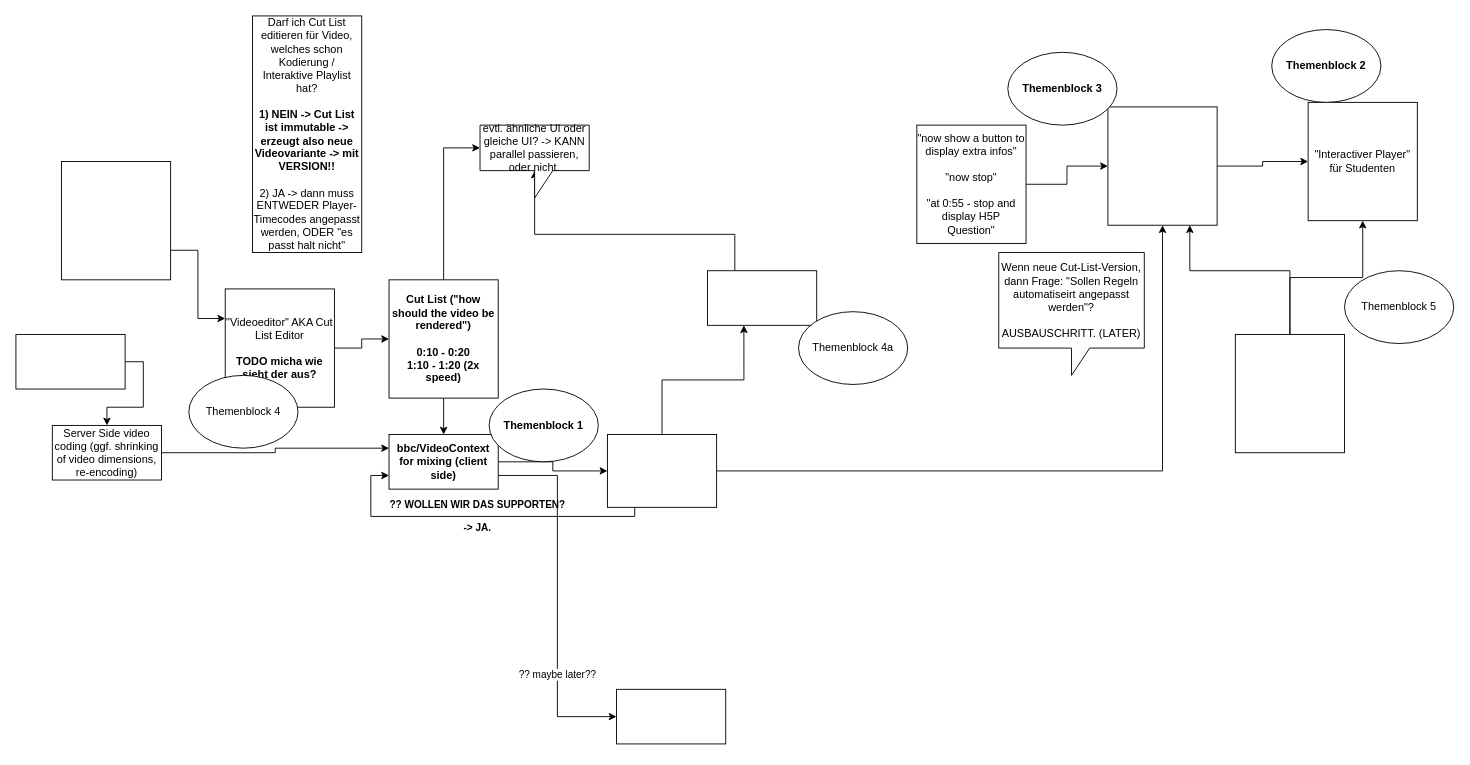
This 1470x765 diagram has some shape labels left out. Each missing label, with the centre of its shape:
"final video" (virtual) "hat versionsnummer" (der Cut List) (e.g. 1 min long): point 662,470
"Kodierung": point 762,297
H5P für Multi-Choice etc. Fragen während Video läuft (AUSBAUSCHRITT): point 1289,393
Konfigurator des interaktiven Players: point 1162,165
TODO maybe server side encoder ?? DO WE NEED IT??: point 671,716
UNDO / REDO -> in selber Editing Session. -> Redux Dev Tools angelehnt??: point 116,220
Uploaded Video (e.g. 10 mins length): point 70,361
